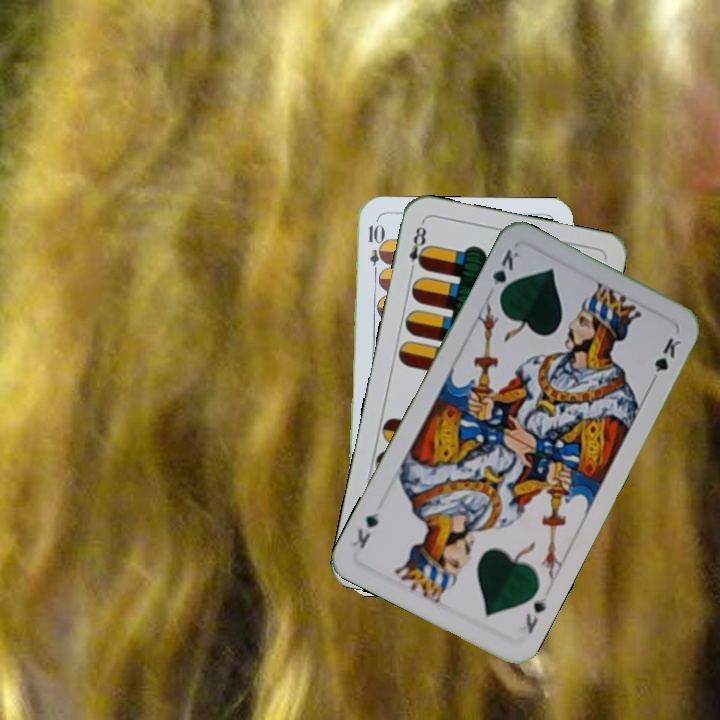E10: (364, 221, 382, 280)
E8: (405, 219, 431, 277)
GK: (488, 245, 523, 302), (521, 593, 550, 637)
